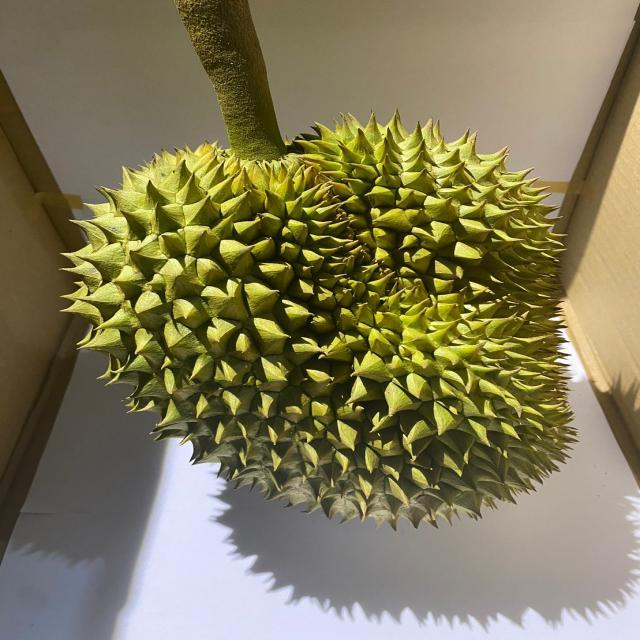immature: (58, 111, 580, 523)
